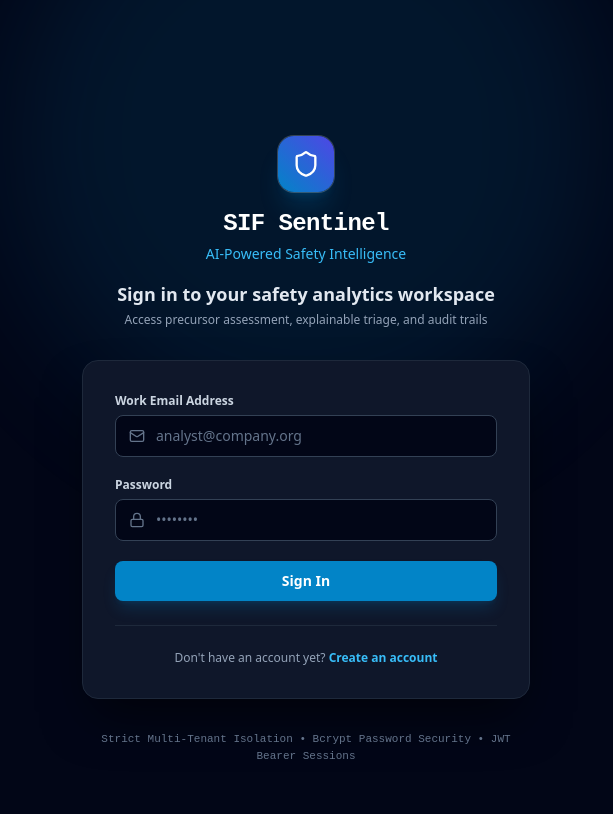
Test: Login Component › displays error banner when authentication fails
The width and height of the screenshot is (613, 814).
Type "wrong@company.org" into the field labelled "Work Email Address" at (306, 436), box [115,415,497,457]
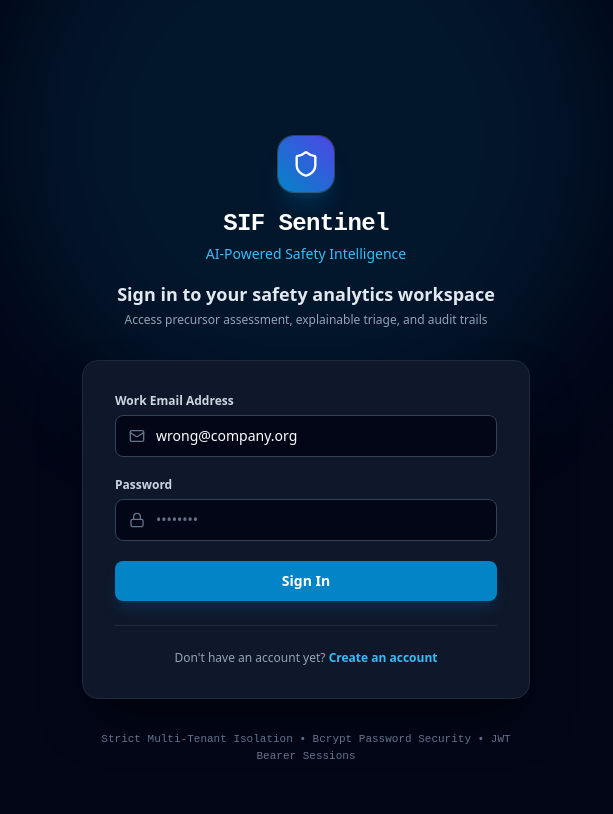
Type "BadPassword" into the password field labelled "Password" at (306, 520), box [115,499,497,541]
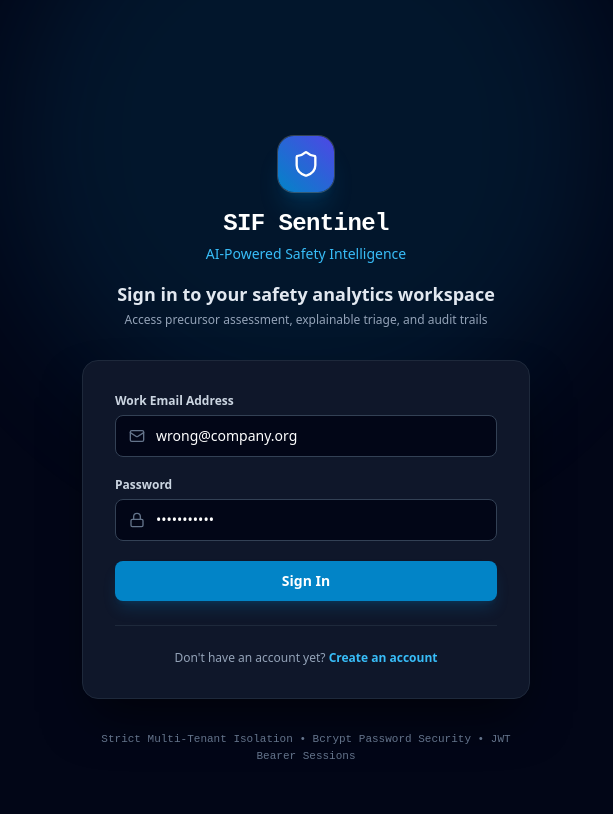
Click the button "Sign In" at (306, 581), box [115,561,497,601]
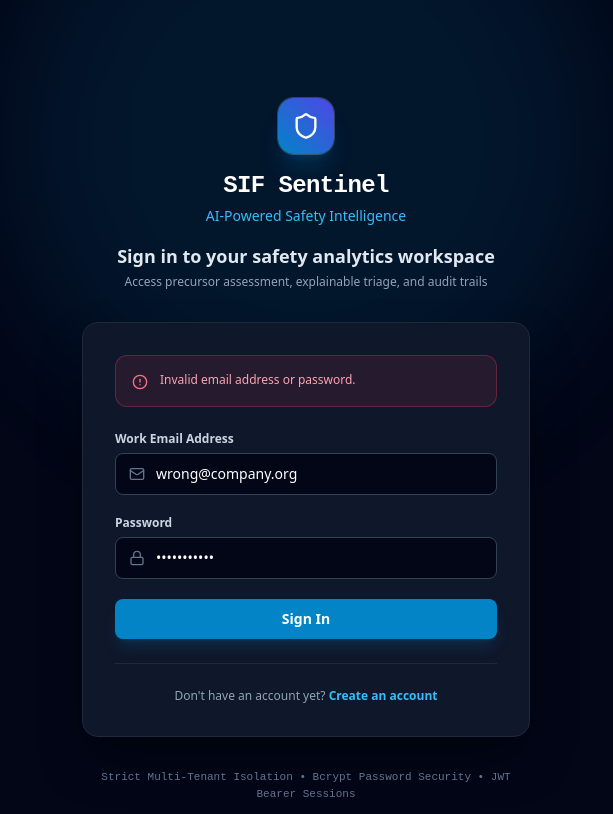
Check: the message shows "Invalid email address or password", box [160,371,356,388]
